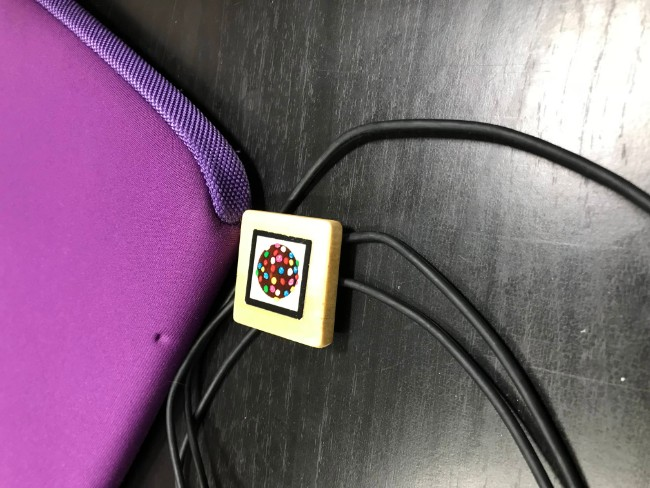cookie: (240, 224, 319, 325)
